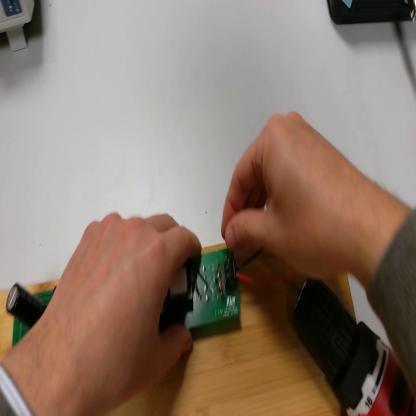electric screwdriver: (289, 277, 416, 416)
hand: (43, 209, 199, 400), (223, 111, 365, 281)
high voltage board: (1, 254, 290, 361)
oscilloscope: (2, 2, 37, 55)
welder station: (328, 3, 416, 27)
working area: (2, 241, 369, 416)
